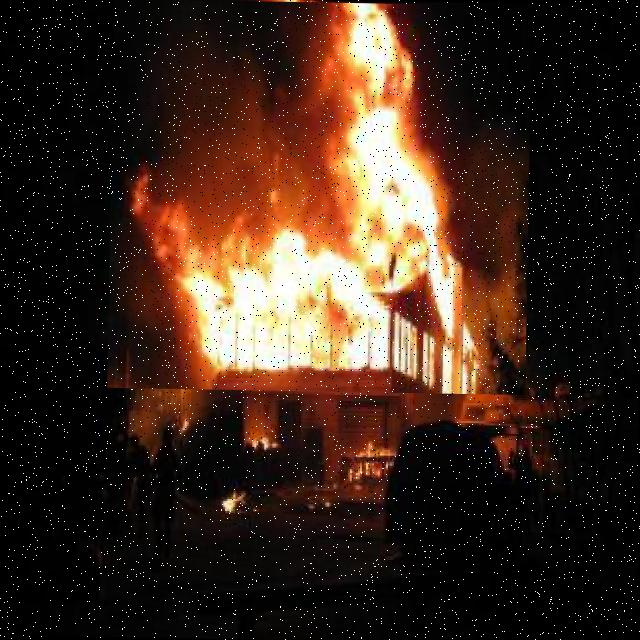fire: (106, 0, 531, 394)
